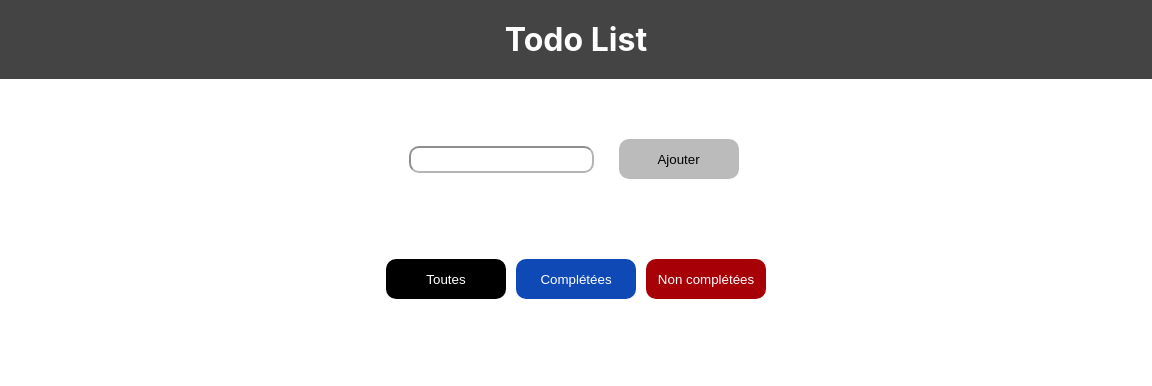
Test: App Component › Devrait pouvoir ajouter une nouvelle tâche
Type "Nouvelle tâche" into the field with test id "task-input" at (502, 160), box [409,146,594,173]
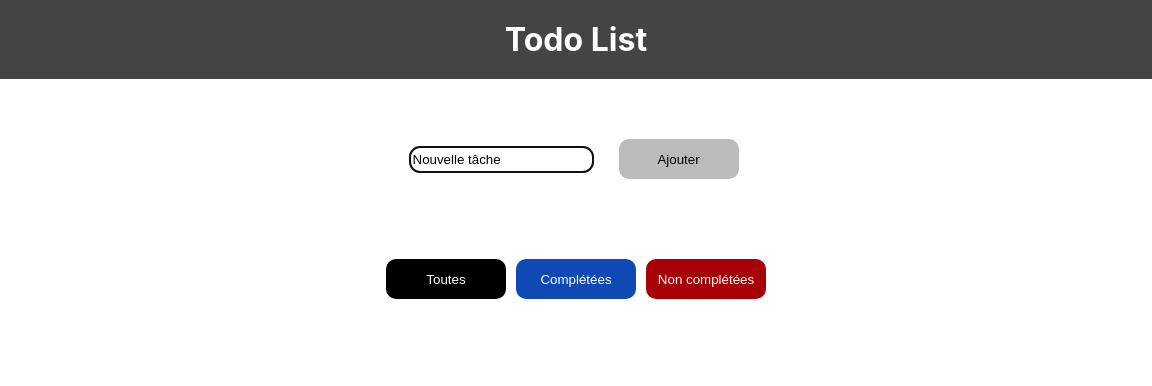
Click the button with test id "add-task-btn" at (679, 159), box [619,139,739,179]
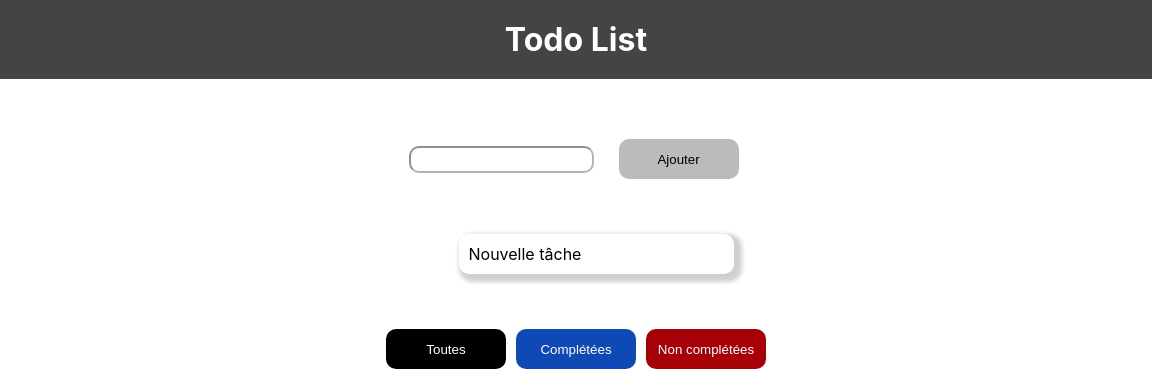
Expected: the number of list items with test id "task-item" is 1, [459,234,734,274]
